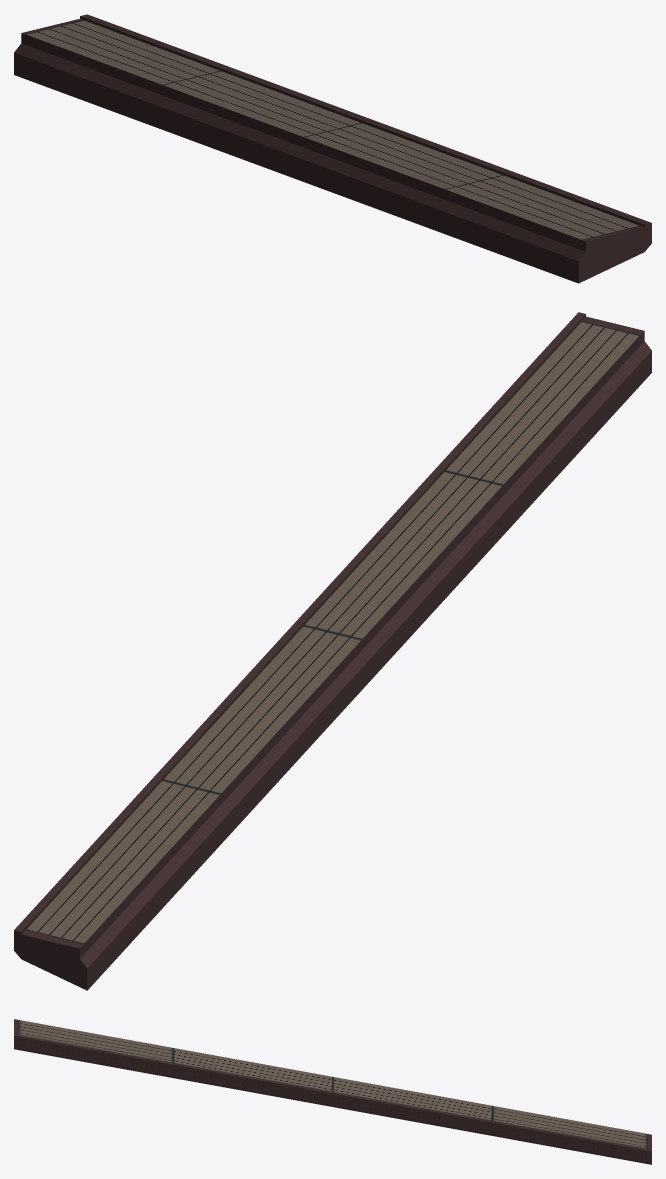
The model's file is SW_ENV_EL_TrackBase_Walkway_Rise_Side_20m.fbx.
3 renders of one model, top to bottom at view 1: azimuth 30°, elevation 25°; view 2: azimuth 150°, elevation 25°; view 3: azimuth 270°, elevation 25°, orthographic. The views are drawn at different scales.
Parts seen in each view (by area): view 1: SW_ENV_EL_TrackBase_Walkway_Rise_Side_20m; view 2: SW_ENV_EL_TrackBase_Walkway_Rise_Side_20m; view 3: SW_ENV_EL_TrackBase_Walkway_Rise_Side_20m.
Part boxes in pixels (x1,y1,x2,y2): SW_ENV_EL_TrackBase_Walkway_Rise_Side_20m: (14,14,651,283); SW_ENV_EL_TrackBase_Walkway_Rise_Side_20m: (14,312,651,990); SW_ENV_EL_TrackBase_Walkway_Rise_Side_20m: (14,1019,651,1164).
Bounding box in the file's own units: 150 × 483 × 2000.
